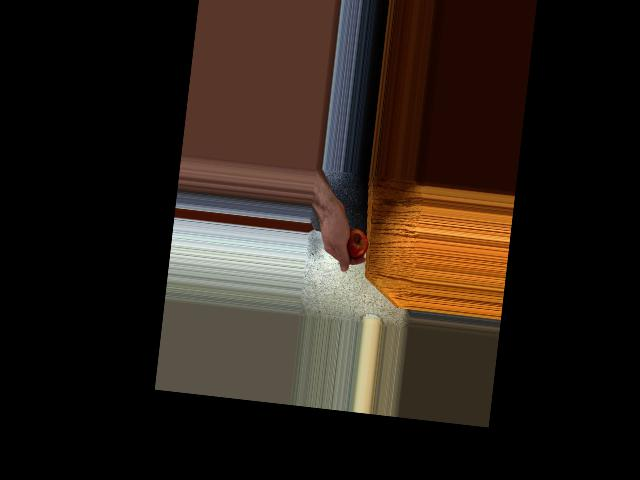apple: (333, 222, 371, 261)
